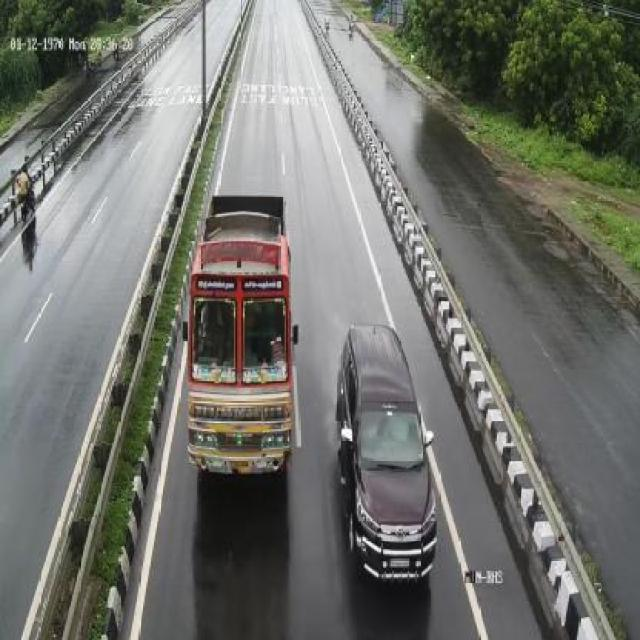car: (334, 311, 441, 591)
